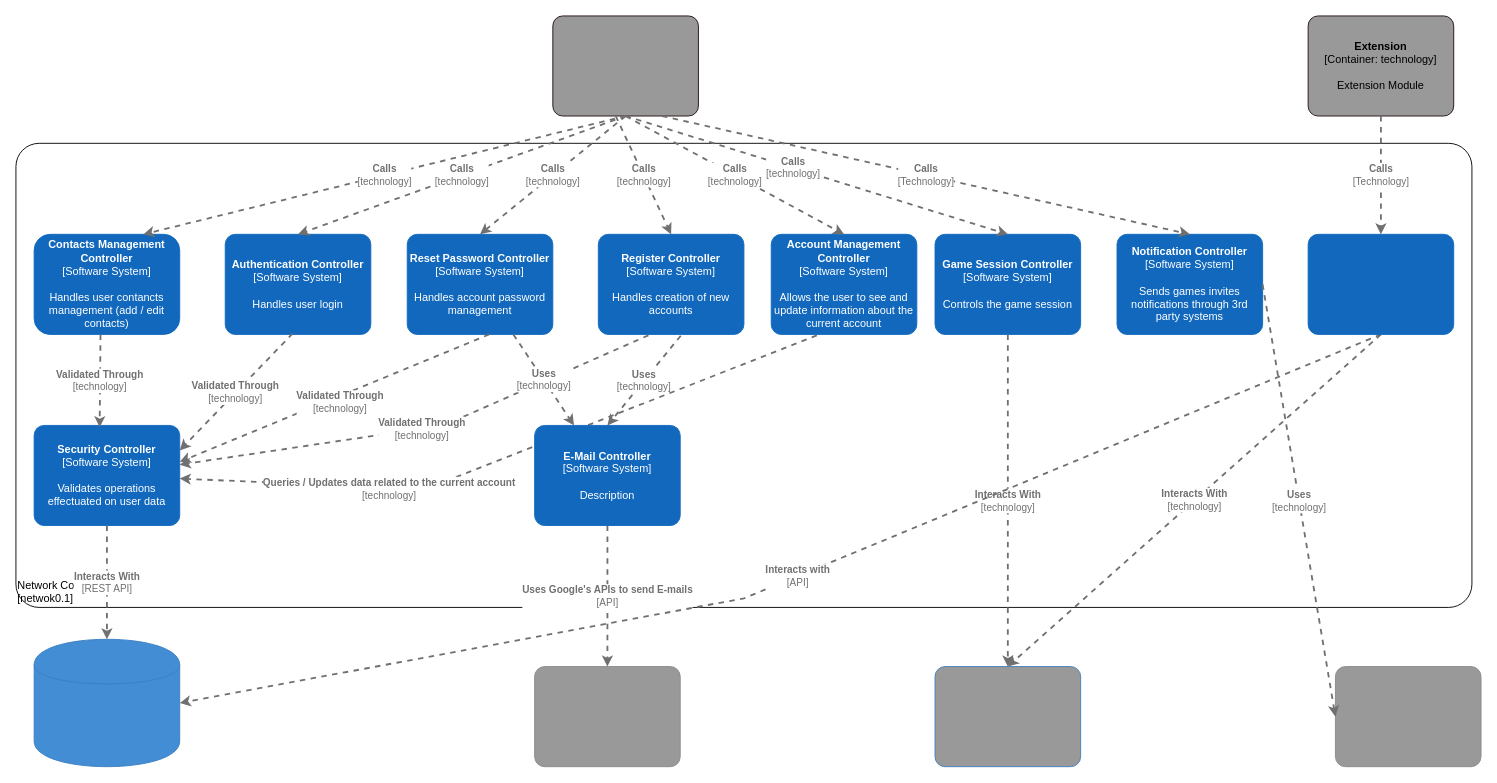
Image size: 1497x783. Some labels were removed from this diagram. The shapes that lost their labels are listed below. From the top down, each one's centre as x and y in pixels, then its label:
the point at 625,65: Interface [Container: technology] UI
the point at 1380,283: Extension Controller [Software System] Manages extensions (add, delete, ...)
the point at 106,702: Database [Container: PostgreSQL Database] Description
the point at 607,716: Google E-mail API [Software System] Description
the point at 1007,716: Game Logic Component [Container: technology] Description
the point at 1408,716: Discord API [Software System] Description
